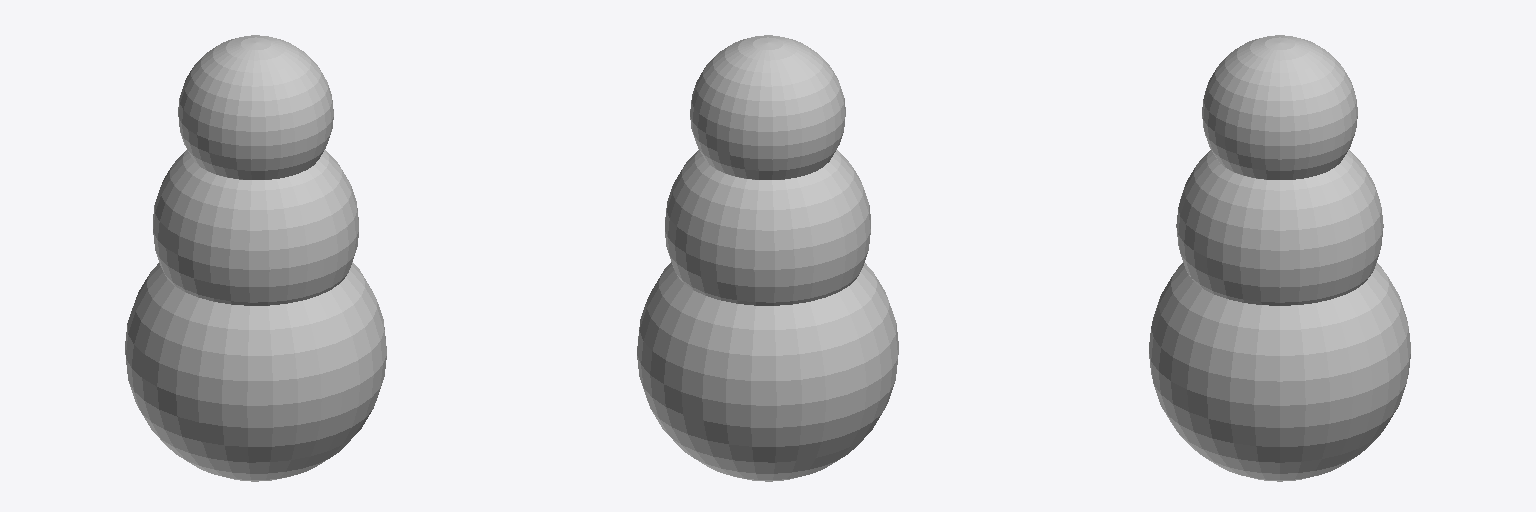
File: snowman.obj
3 views of the same model, side by side, from view 1: azimuth 30°, elevation 25°; view 2: azimuth 150°, elevation 25°; view 3: azimuth 270°, elevation 25° (orthographic).
Bounding box in the file's own units: 3.36 × 6.03 × 3.36.